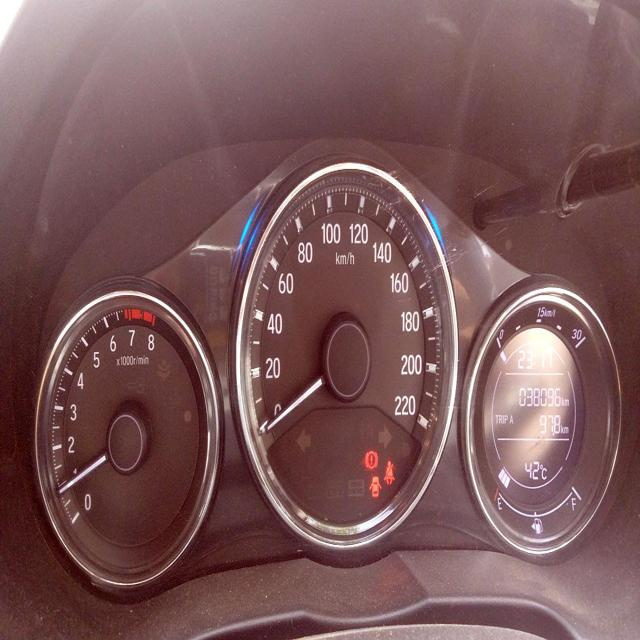odometer: (517, 383, 562, 409)
